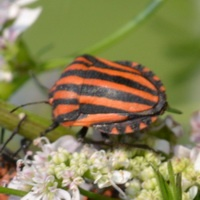insect: (41, 55, 180, 135)
